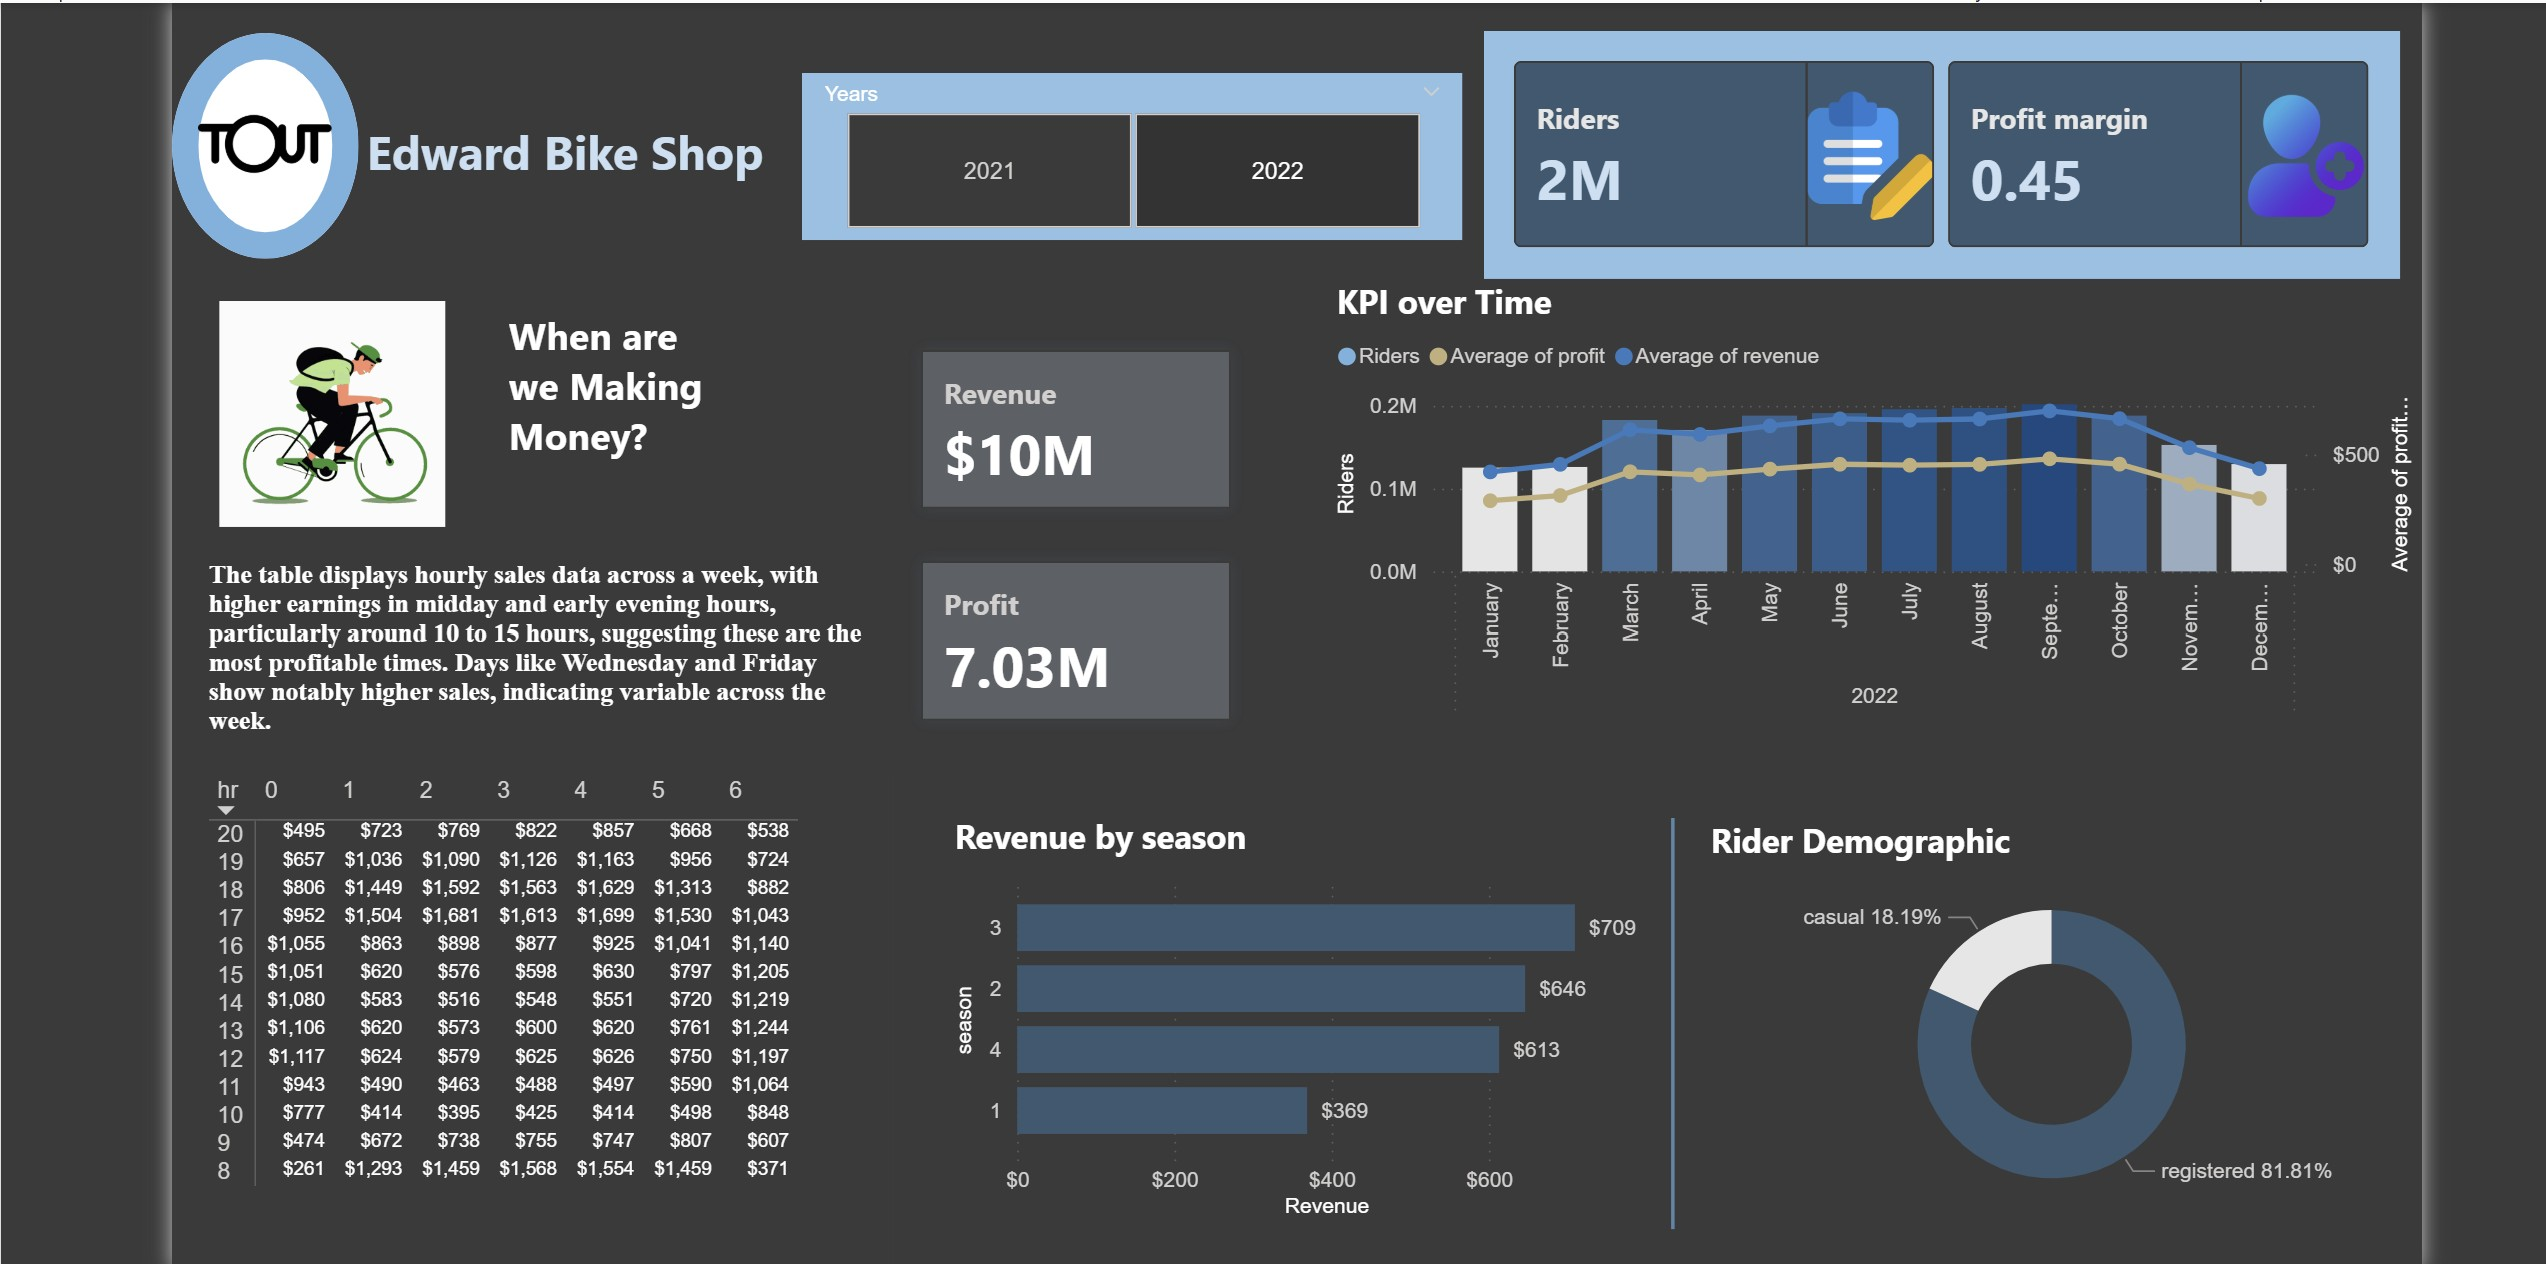

Layout of this report page (visuals, bound fields, positions):
{"tool":"powerbi","page":{"name":"Page 1","canvas":[1280,720],"ordinal":0},"visuals":[{"type":"clusteredBarChart","fields":{"Y":["Avg(Query1.revenue)"],"Category":["Query1.season"]},"box":[440.4,461,411.9,234.5],"z":1000},{"type":"cardVisual","fields":{"Data":["Sum(Query1.price)"]},"box":[15.8,169.5,383.4,525.9],"z":3000},{"type":"image","box":[15.8,169.5,150.5,128.3],"z":4000},{"type":"pivotTable","fields":{"Values":["Avg(Query1.revenue)"],"Columns":["Query1.weekday"],"Rows":["Query1.hr"]},"box":[15.8,434.1,394.5,286.7],"z":5000},{"type":"textbox","box":[186.9,169.5,210.7,145.7],"z":6000},{"type":"textbox","box":[15.8,312.1,381.8,122],"z":7000},{"type":"lineClusteredColumnComboChart","title":"KPI over Time","fields":{"Category":["Query1.dteday.Variation.Date Hierarchy.Year","Query1.dteday.Variation.Date Hierarchy.Month","Query1.dteday.Variation.Date Hierarchy.Day"],"Y":["Sum(Query1.riders)"],"Y2":["Avg(Query1.profit)","Avg(Query1.revenue)"]},"box":[658,157.4,622,266.8],"z":8000},{"type":"donutChart","title":"Rider Demographic","fields":{"Category":["Query1.rider_type"],"Y":["Sum(Query1.riders)"]},"box":[869.7,462.6,397.6,232.9],"z":9000},{"type":"shape","box":[703,463.1,301.3,233.8],"z":10000},{"type":"cardVisual","title":"KPI over Time","fields":{"Data":["Sum(Query1.revenue)","Sum(Query1.profit)"]},"box":[397.6,169.5,232.9,266.1],"z":11000},{"type":"cardVisual","fields":{"Data":["Sum(Query1.riders)","Query1.Profit margin"]},"box":[746.1,15.8,521.2,141],"z":12000},{"type":"shape","box":[0,17.4,106.1,128.3],"z":13000},{"type":"image","box":[14.3,1.6,76,158.4],"z":14000},{"type":"textbox","title":"Edward Bike Shop","box":[106.1,66.5,304.2,39.6],"z":15000},{"type":"slicer","fields":{"Values":["Query1.Years"]},"box":[358,39.6,375.4,95],"z":16000}]}

Visuals, with their boxes on the page's 1280x720 design canvas (x1, y1, x2, y2). These are canvas units, not pixel positions in the 2546x1264 screenshot, which may show the page scaled, cropped or inside an application window:
clusteredBarChart - Avg(Query1.revenue) x Query1.season: bbox(440, 461, 852, 696)
cardVisual - Sum(Query1.price): bbox(16, 170, 399, 695)
image: bbox(16, 170, 166, 298)
pivotTable - Avg(Query1.revenue) x Query1.weekday: bbox(16, 434, 410, 721)
textbox: bbox(187, 170, 398, 315)
textbox: bbox(16, 312, 398, 434)
"KPI over Time" lineClusteredColumnComboChart: bbox(658, 157, 1280, 424)
"Rider Demographic" donutChart: bbox(870, 463, 1267, 696)
shape: bbox(703, 463, 1004, 697)
"KPI over Time" cardVisual: bbox(398, 170, 630, 436)
cardVisual - Sum(Query1.riders) x Query1.Profit margin: bbox(746, 16, 1267, 157)
shape: bbox(0, 17, 106, 146)
image: bbox(14, 2, 90, 160)
"Edward Bike Shop" textbox: bbox(106, 66, 410, 106)
slicer - Query1.Years: bbox(358, 40, 733, 135)
